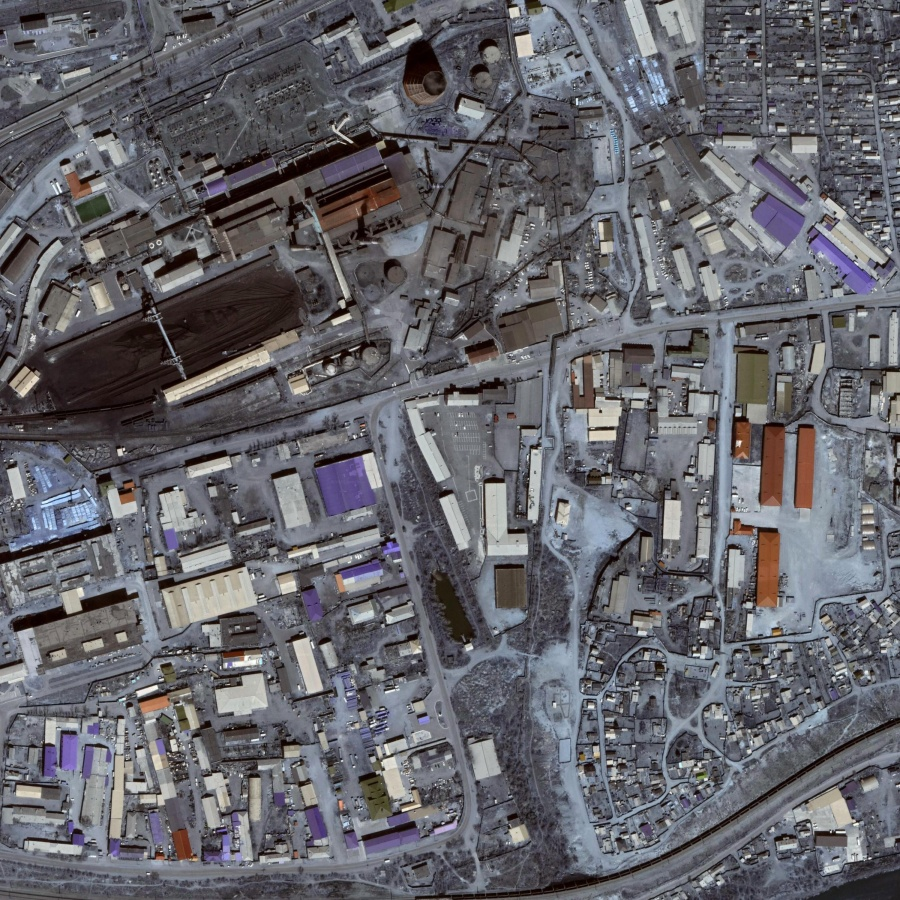PowerPlant: (29, 39, 510, 421)
